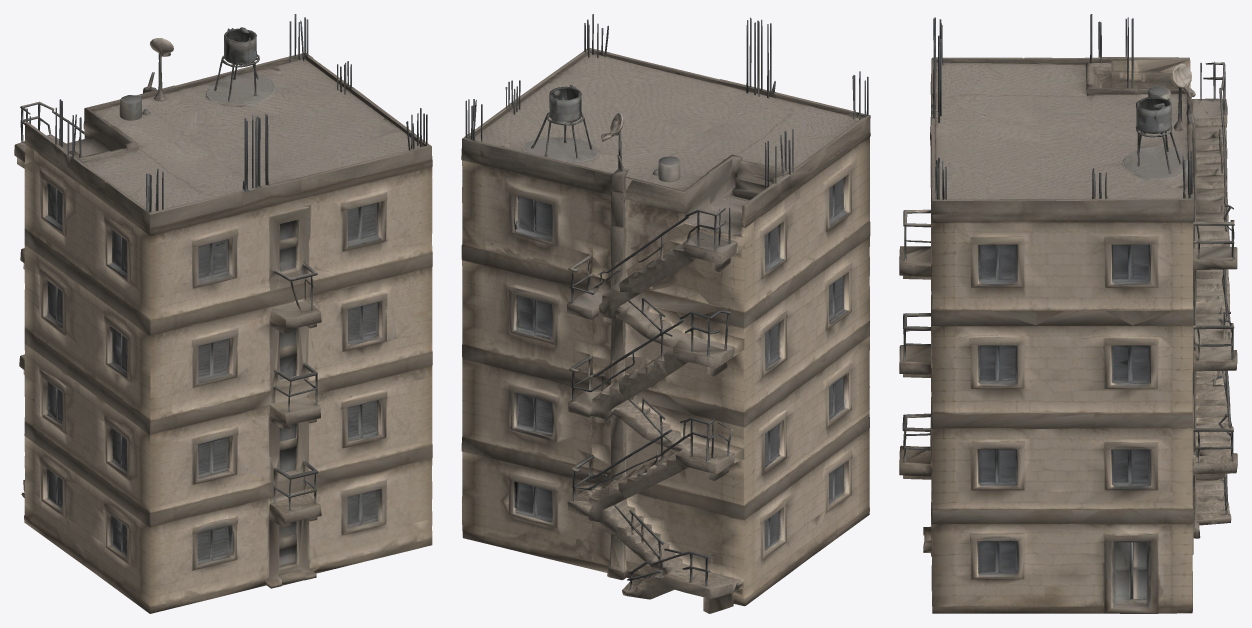
Rendered from apartment.glb.
The picture shows the model from 3 angles, left to right: view 1: azimuth 30°, elevation 25°; view 2: azimuth 150°, elevation 25°; view 3: azimuth 270°, elevation 25°; orthographic projection. The views are drawn at different scales.
Parts seen in each view (by area): view 1: wall, roof, metal, trim; view 2: wall, metal, roof, trim; view 3: wall, roof, metal, trim.
Part boxes in pixels (box(x1,y1,x2,y2)): wall: box(17, 20, 432, 613); roof: box(83, 59, 423, 211); metal: box(14, 14, 427, 511); trim: box(25, 53, 431, 214); wall: box(461, 26, 870, 613); metal: box(465, 14, 868, 599); roof: box(475, 52, 858, 190); trim: box(462, 48, 869, 205); wall: box(899, 23, 1237, 613); roof: box(935, 62, 1188, 199); metal: box(933, 14, 1231, 525); trim: box(930, 57, 1193, 200).
Size of the model in its own units: 14.75 by 23.23 by 14.66.
1 material, 1 textured.
